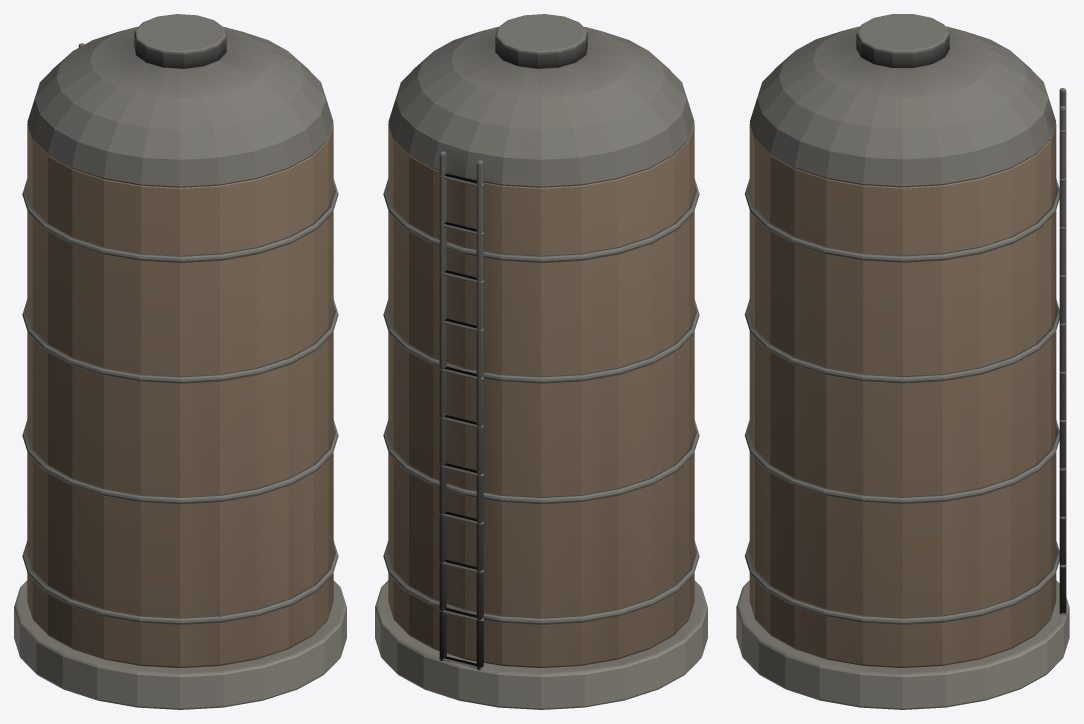
File: silo.glb
3 views of the same model, side by side, from view 1: azimuth 30°, elevation 25°; view 2: azimuth 150°, elevation 25°; view 3: azimuth 270°, elevation 25° (orthographic).
Visible parts, largest first — view 1: base; view 2: base; view 3: base.
Boxes of the visible parts, x1,y1,x2,y2 form: base: (14,14,346,709); base: (375,14,707,709); base: (736,14,1069,709).
Bounding box in the file's own units: 2.5 × 5.04 × 2.5.
